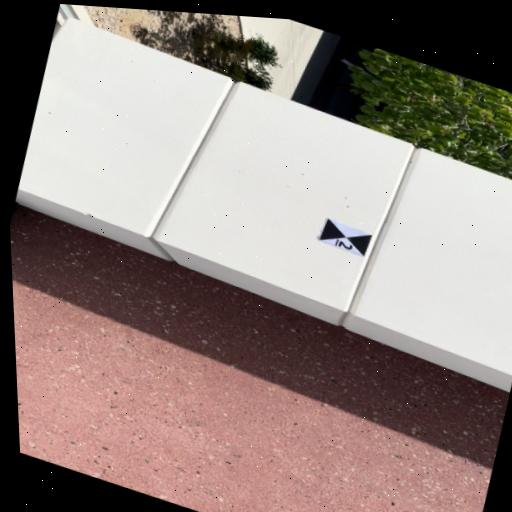target2: (319, 217, 371, 257)
